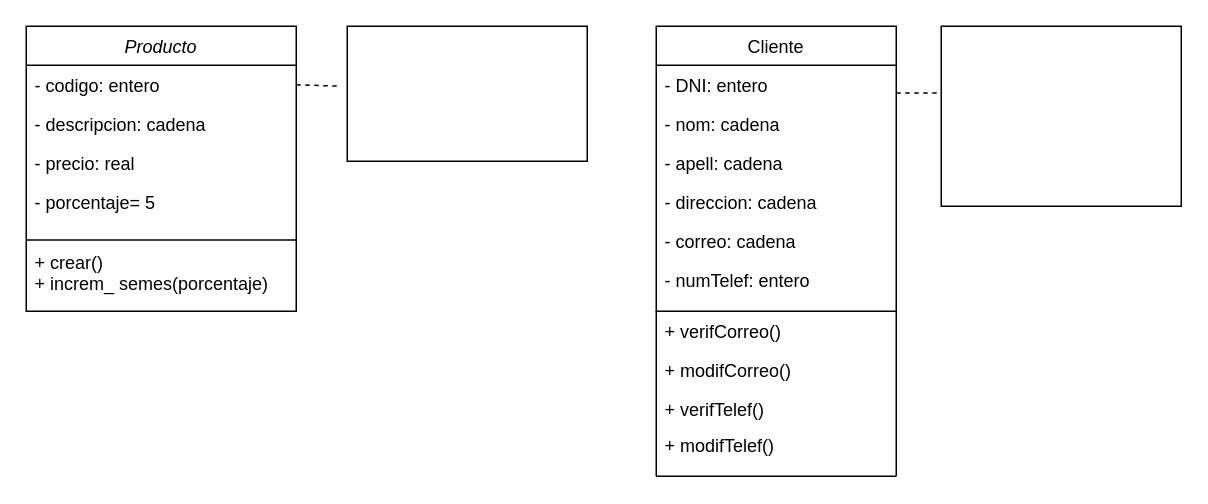
Some shapes in this 1208 by 504 pixel diagram are drawn without their labels. The shapes that lost their labels are listed below. From the top down, each one's centre as x and y in pixels, then its label:
the point at 466,93: :Producto 9865645700 memoria 65000
the point at 1060,115: :Cliente 40123456 Juan Perez Libertador 1234 sur email@gmail.com 2641234567
